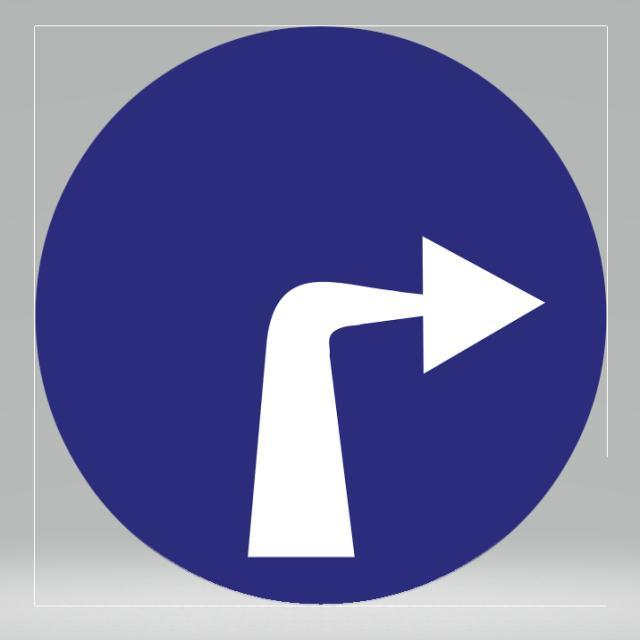compulsary turn right ahead: (33, 25, 611, 606)
